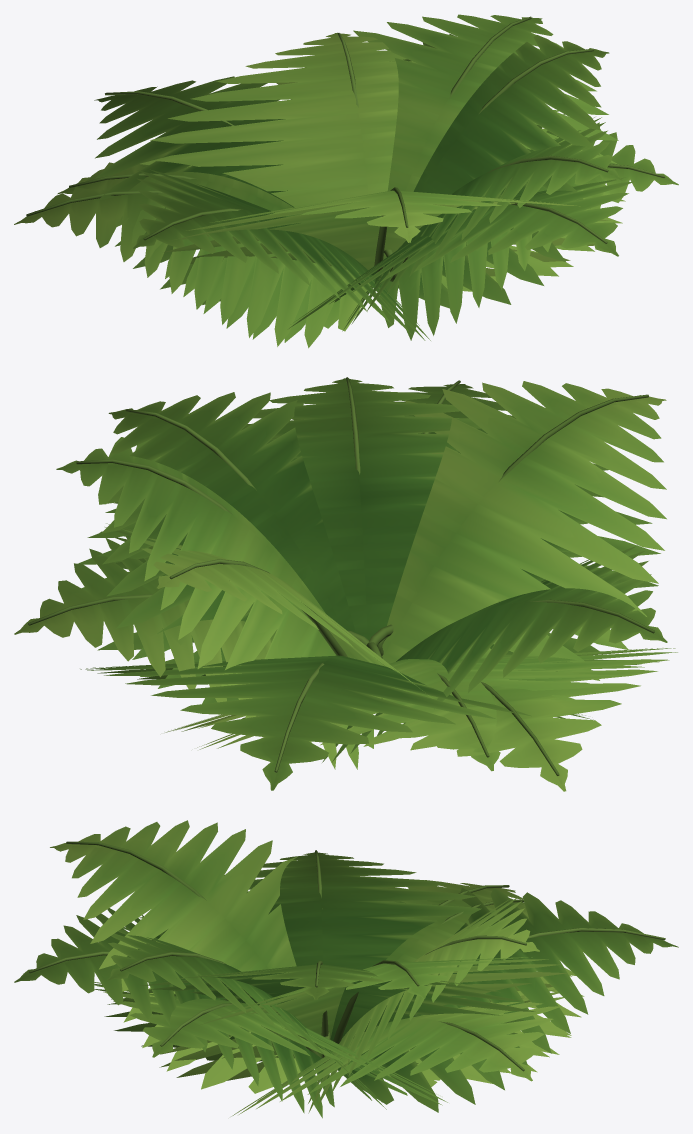
File: PLN_Ferns_Medium.fbx
3 renders of one model, top to bottom at view 1: azimuth 30°, elevation 25°; view 2: azimuth 150°, elevation 25°; view 3: azimuth 270°, elevation 25°, orthographic. The views are drawn at different scales.
Parts seen in each view (by area): view 1: PLN_Ferns_Medium; view 2: PLN_Ferns_Medium; view 3: PLN_Ferns_Medium.
Boxes of the visible parts, left/top/right/bottom form: PLN_Ferns_Medium: left=14, top=14, right=678, bottom=348; PLN_Ferns_Medium: left=14, top=377, right=677, bottom=791; PLN_Ferns_Medium: left=14, top=820, right=678, bottom=1118.
Bounding box in the file's own units: 0.7504 × 0.2821 × 0.9073.
